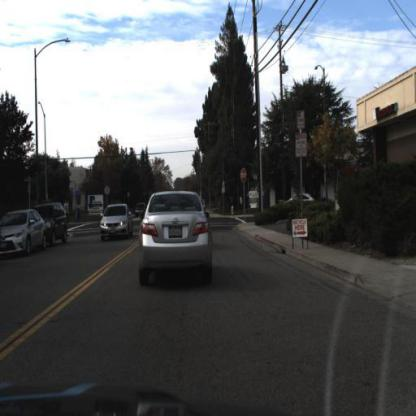car: (138, 186, 216, 286), (1, 209, 48, 254), (41, 199, 69, 250), (101, 200, 133, 242), (45, 203, 70, 245)
